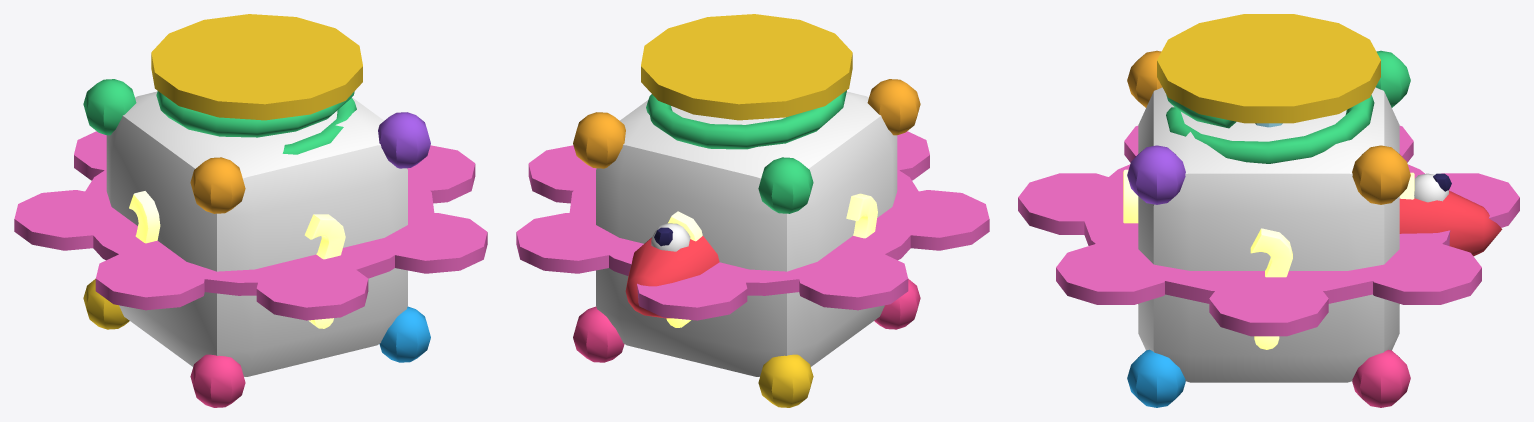
File: items.glb
3 views of the same model, side by side, from view 1: azimuth 30°, elevation 25°; view 2: azimuth 150°, elevation 25°; view 3: azimuth 270°, elevation 25° (orthographic). The views are drawn at different scales.
Visible parts, largest first — view 1: item_box, item_splash, item_spring; view 2: item_box, item_splash, item_spring, item_rocket; view 3: item_box, item_splash, item_spring, item_rocket.
Boxes of the visible parts, box(x1,y1,x2,y2) form: item_box: box(83, 79, 430, 407); item_splash: box(14, 131, 487, 320); item_spring: box(151, 14, 362, 154); item_box: box(573, 79, 920, 407); item_splash: box(516, 131, 989, 320); item_spring: box(641, 14, 852, 149); item_rocket: box(625, 223, 719, 318); item_box: box(1123, 50, 1414, 407); item_splash: box(1018, 125, 1519, 336); item_spring: box(1157, 14, 1380, 163); item_rocket: box(1399, 173, 1502, 256).
Bounding box in the file's own units: 2.6 × 1.76 × 2.69.
